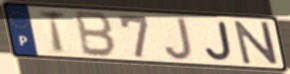7: (116, 13, 151, 60)
B: (74, 9, 118, 59)
J: (163, 16, 195, 62), (203, 20, 234, 63)
N: (232, 20, 281, 66)
T: (37, 8, 68, 55)
